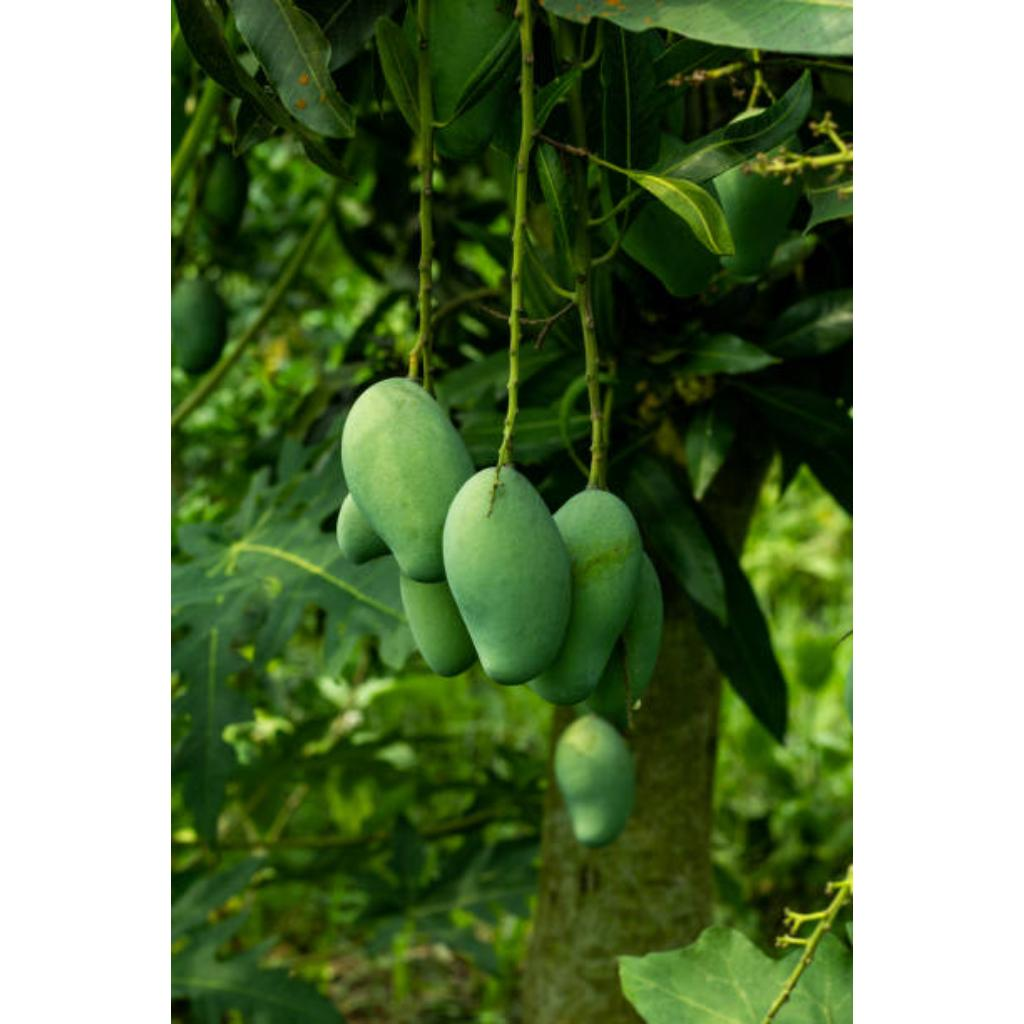mango: (443, 466, 573, 684), (341, 378, 475, 579), (533, 488, 643, 703), (555, 714, 637, 847)
